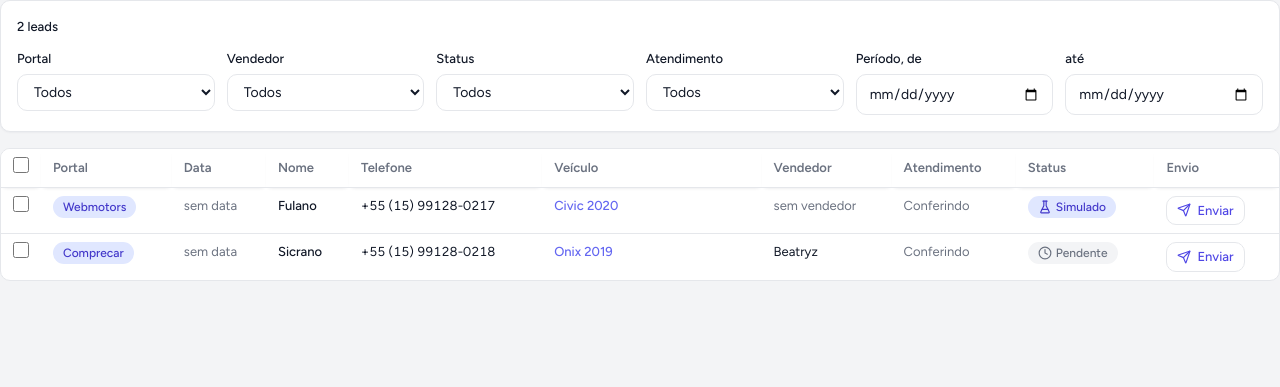
Test case: tela de leads: selecao para o envio em lote › a barra diz de qual filtro veio a selecao, em palavras
Expected: the text "Fulano" is shown, [266,188,349,234]
Select "Beatryz" in the dropdown labelled "Vendedor". click: [326, 92]
box: [227,74,424,111]
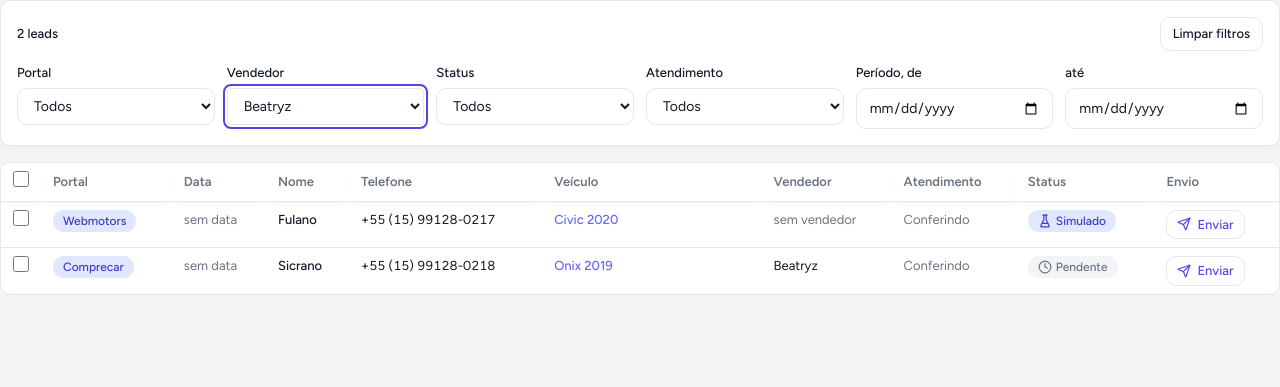
Expected: the text "Fulano" is shown, [266,202,349,248]
Click the checkbox named "selecionar todos os vis". click: [21, 179]
box: [13,171,29,187]
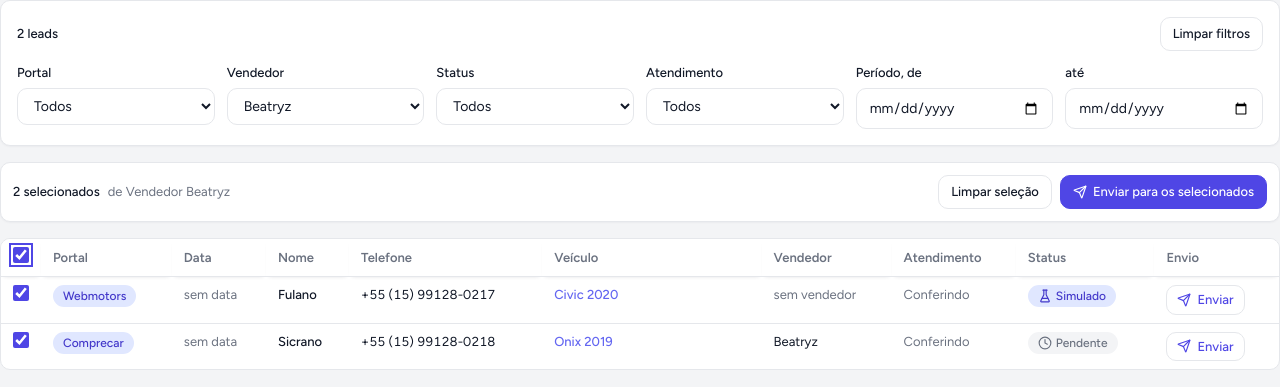
Expected: the text "de Vendedor Beatryz" is shown, [108,184,230,199]
